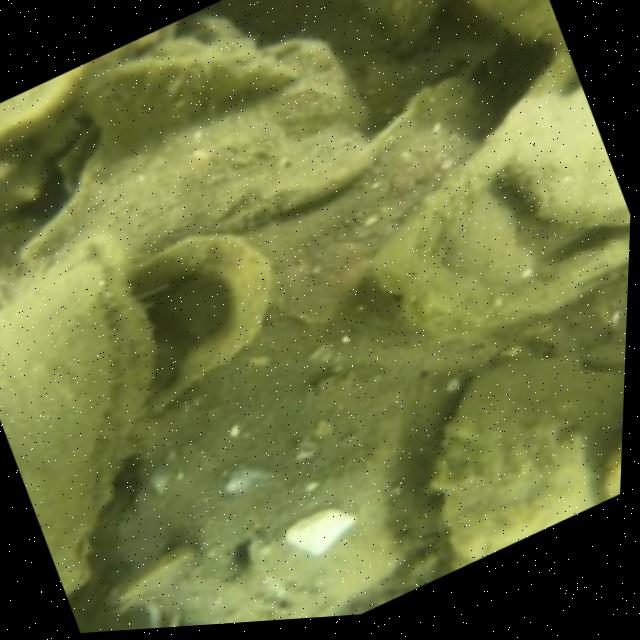Oyster-Closed: (0, 235, 155, 587)
Oyster-Indeterminate: (19, 39, 376, 268), (366, 41, 630, 343), (119, 364, 411, 627), (252, 77, 495, 318), (432, 355, 624, 557), (119, 231, 275, 416), (80, 43, 300, 132), (507, 91, 623, 228), (221, 0, 435, 56), (467, 0, 549, 40)
